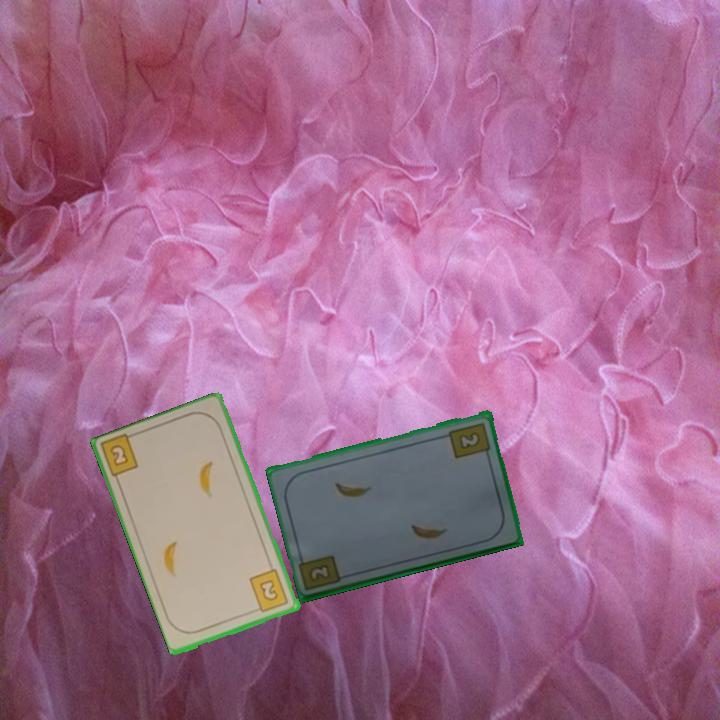2b: (246, 566, 292, 616), (446, 418, 493, 461), (107, 441, 132, 469), (308, 560, 334, 583)
